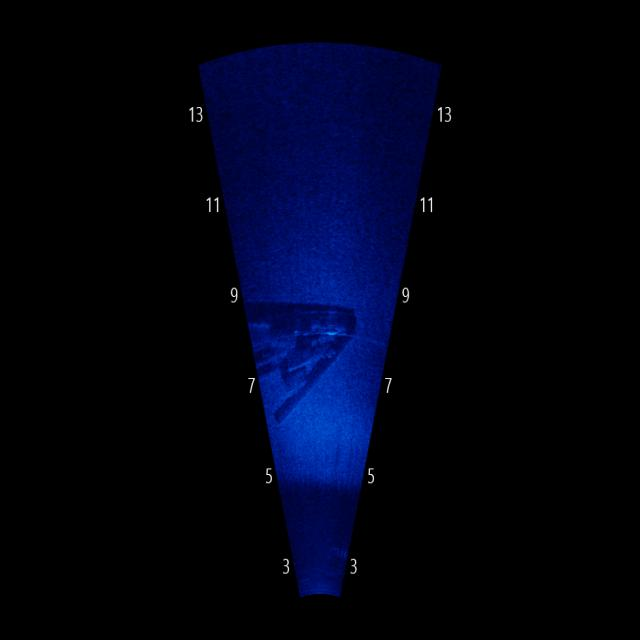triangle: (248, 290, 361, 428)
